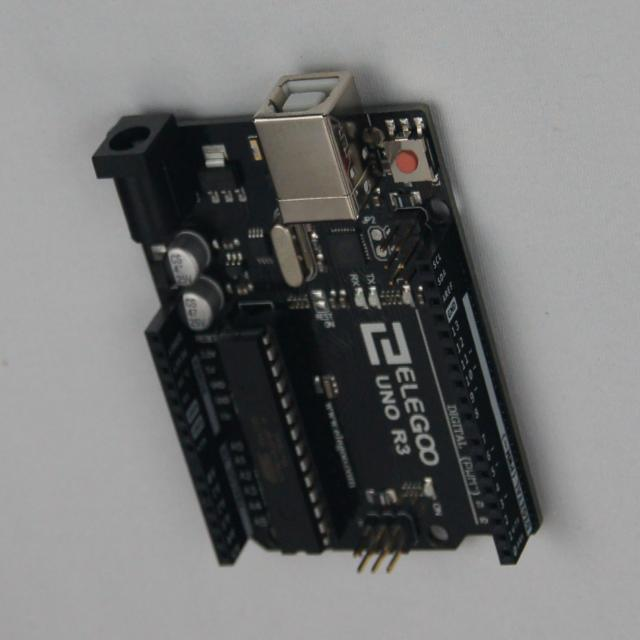Arduino Uno -Black-: (93, 73, 541, 572)
